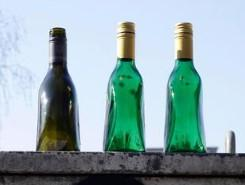glass: (35, 27, 80, 151), (164, 22, 206, 153), (103, 22, 145, 152)
